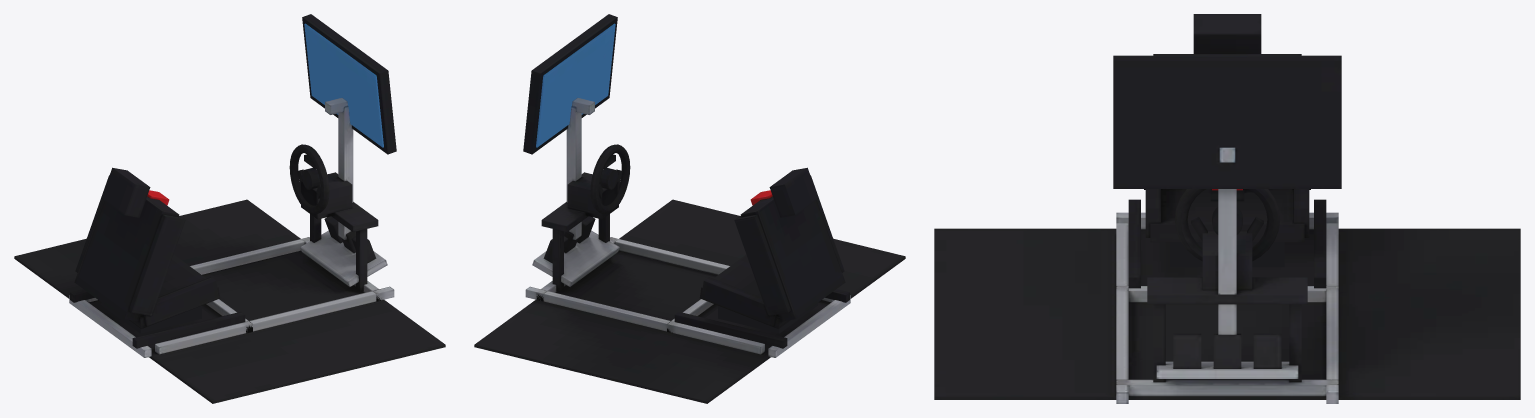
The model's file is cafe-simrig.glb.
3 renders of one model, left to right at view 1: azimuth 30°, elevation 25°; view 2: azimuth 150°, elevation 25°; view 3: azimuth 270°, elevation 25°, orthographic. The views are drawn at different scales.
Parts seen in each view (by area): view 1: Cafe_SimRig; view 2: Cafe_SimRig; view 3: Cafe_SimRig.
Boxes of the visible parts, x1=… form: Cafe_SimRig: x1=14, y1=14, x2=445, y2=403; Cafe_SimRig: x1=474, y1=14, x2=905, y2=403; Cafe_SimRig: x1=934, y1=14, x2=1520, y2=403.
Size of the model in its own units: 1.46 by 1.22 by 1.9.
Materials: 1 (1 with a texture image).
